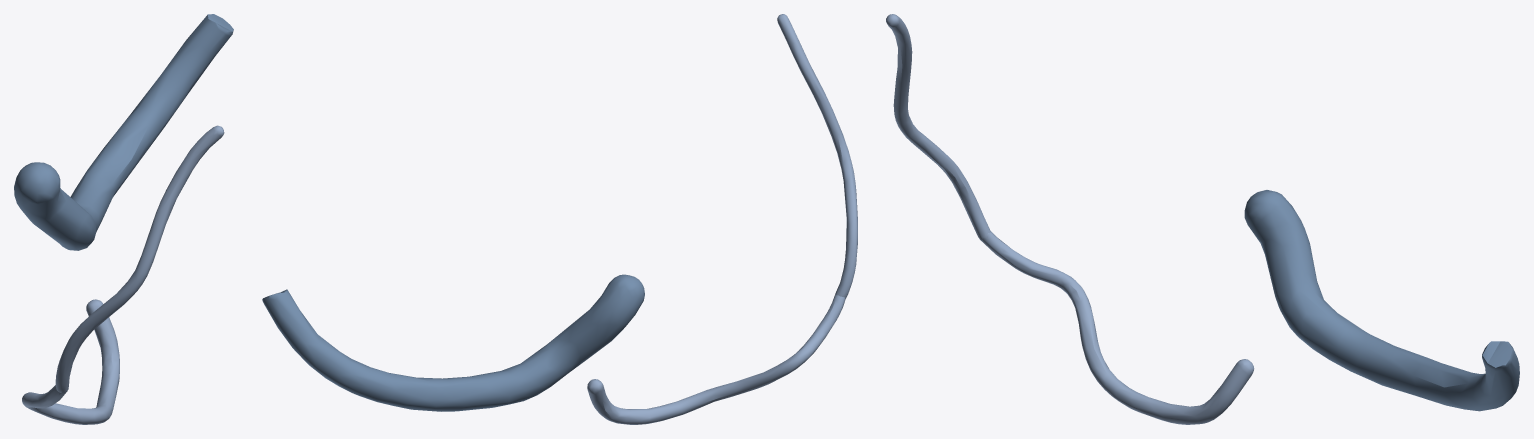
The model's file is coronary-venous.glb.
3 renders of one model, left to right at view 1: azimuth 30°, elevation 25°; view 2: azimuth 150°, elevation 25°; view 3: azimuth 270°, elevation 25°, orthographic. The views are drawn at different scales.
Visible parts, largest first — view 1: FMA4706, FMA4714; view 2: FMA4706, FMA4714; view 3: FMA4706, FMA4714.
Part boxes in pixels (<box>): FMA4706: <box>14,14,233,250</box>; FMA4714: <box>22,125,224,424</box>; FMA4706: <box>262,274,644,411</box>; FMA4714: <box>587,14,857,424</box>; FMA4706: <box>1244,190,1519,411</box>; FMA4714: <box>886,14,1254,424</box>.
Bounding box in the file's own units: 0.6411 × 0.5453 × 0.7932.
